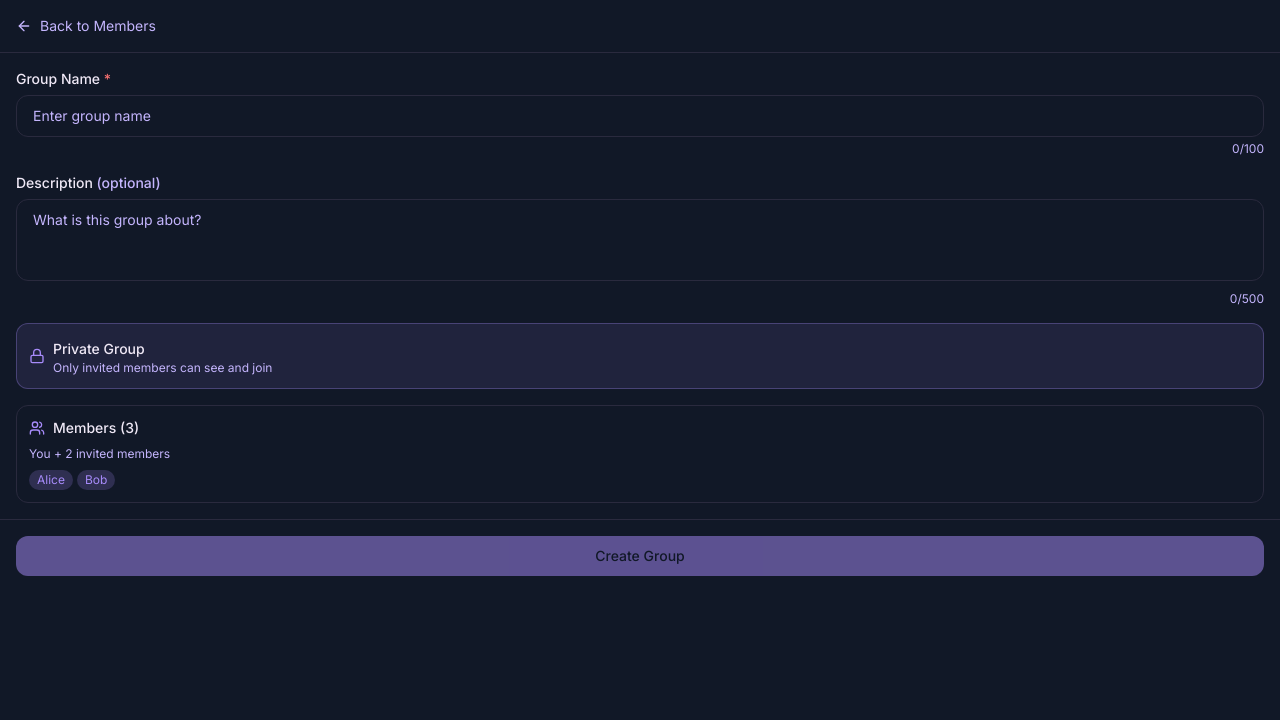
Test: GroupDetailsForm › Form validation › shows character count for name
Type "Test" into the field labelled "Group Name *".
click(640, 116); type("Test")  # box [16,95,1264,137]
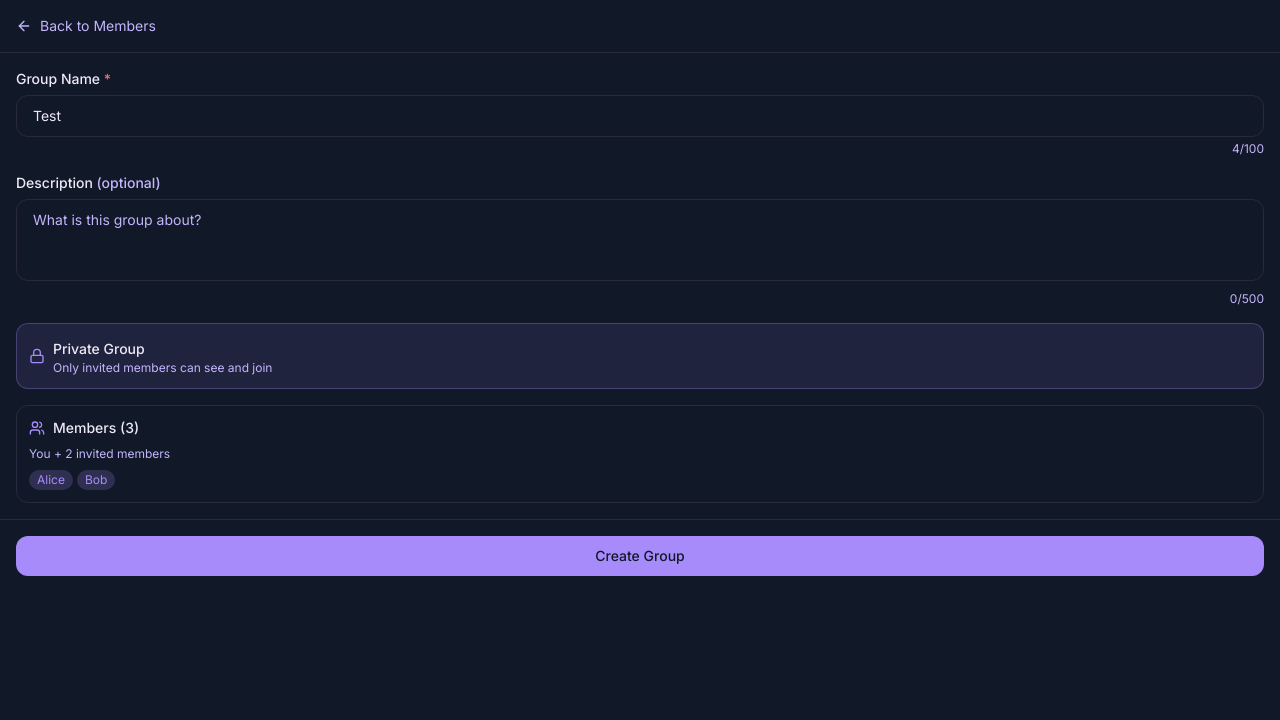
Expected: the text "4/100" is shown, [1232,141,1264,157]
